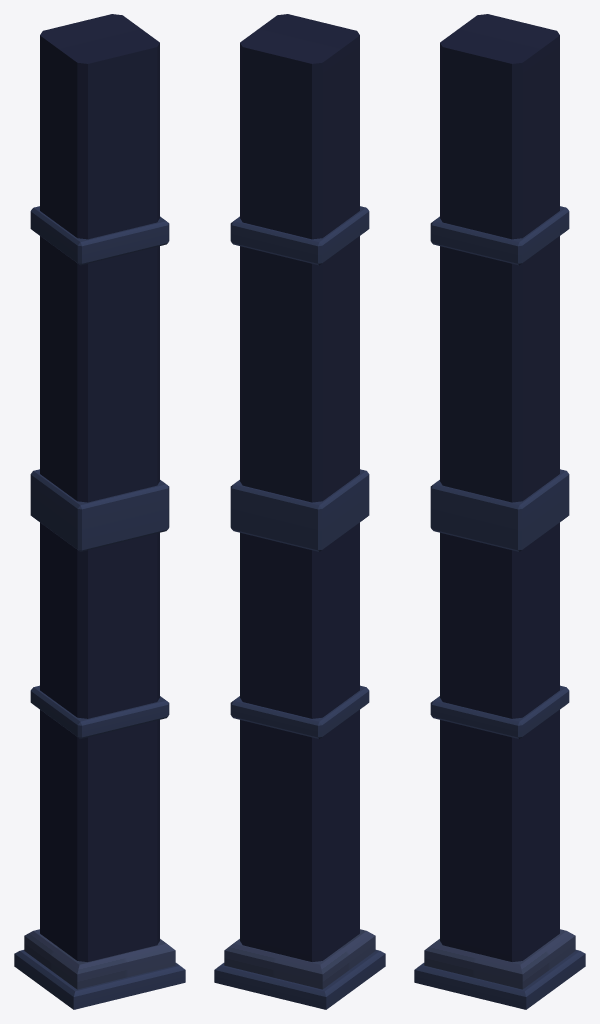
File: SM_Pillar_Big.fbx
The picture shows the model from 3 angles, left to right: view 1: azimuth 30°, elevation 25°; view 2: azimuth 150°, elevation 25°; view 3: azimuth 330°, elevation 25°; orthographic projection.
Parts seen in each view (by area): view 1: SM_Pillar_Big; view 2: SM_Pillar_Big; view 3: SM_Pillar_Big.
Part boxes in pixels (x1,y1,x2,y2): SM_Pillar_Big: (14, 14, 185, 1009); SM_Pillar_Big: (214, 14, 385, 1009); SM_Pillar_Big: (414, 14, 585, 1009).
Bounding box in the file's own units: 1 × 8 × 0.92.
Materials: 1 (1 with a texture image).
